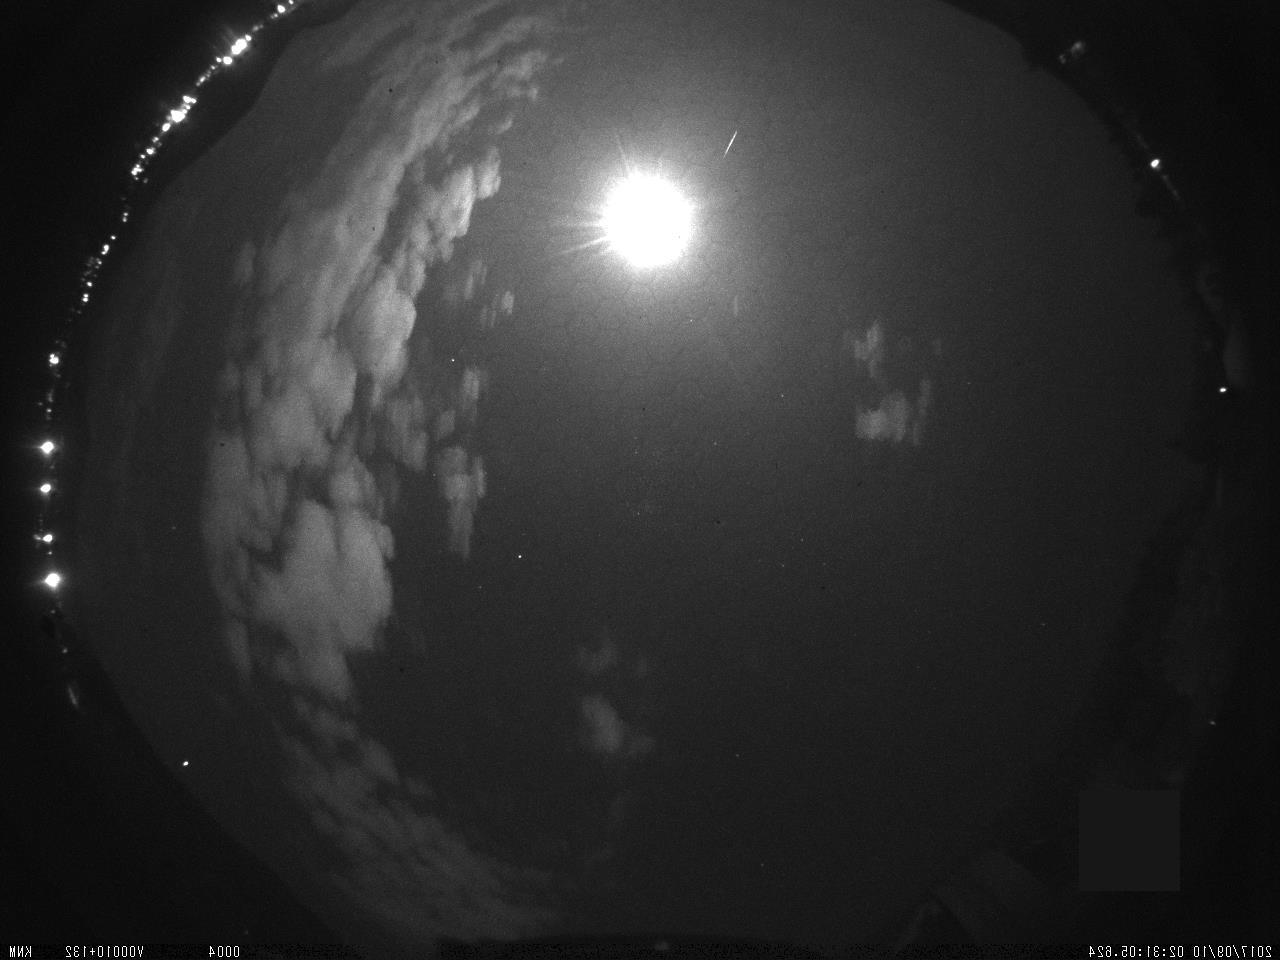meteor: (718, 123, 750, 163)
